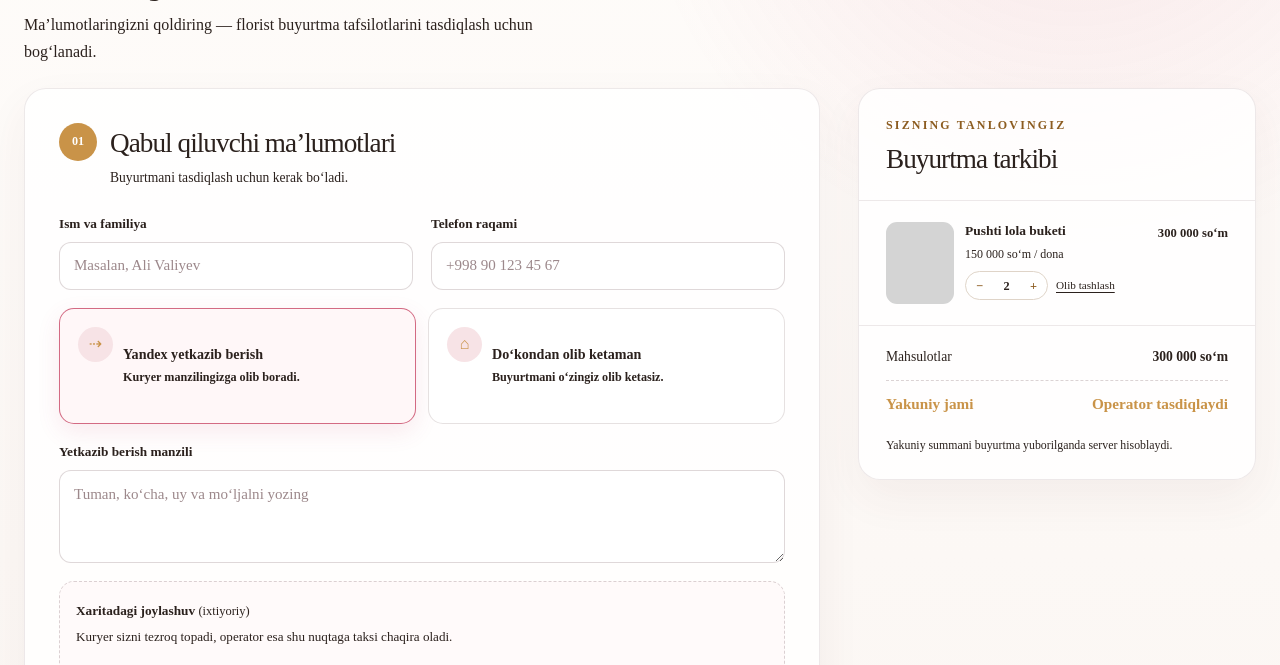
CheckoutClient › shows the collection label alone when the shop has no address on file
The width and height of the screenshot is (1280, 665).
(page scrolled)
expect the heading "Pushti lola buketi" is shown: met, box [965, 223, 1066, 238]
Click the radio button labelled "⌂ Do‘kondan olib ketaman Buyurtmani o‘zingiz olib ketasiz." at {"x": 464, "y": 344}, box [428, 308, 785, 424]
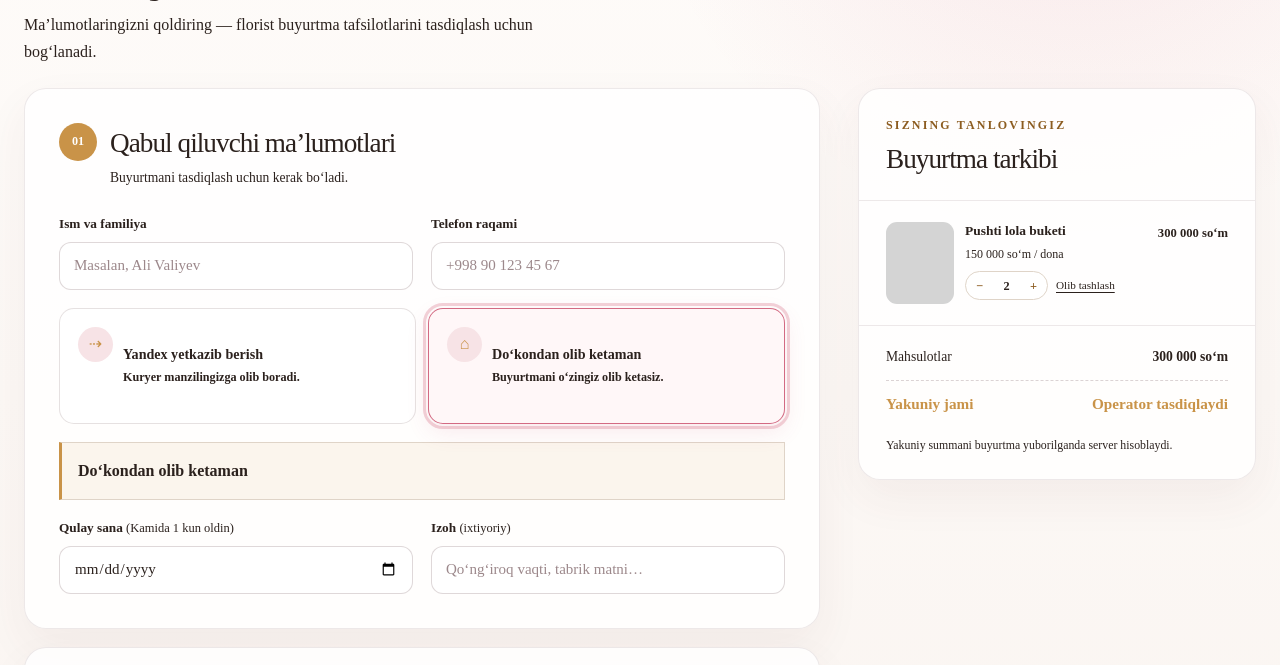
expect the element with class "checkout-pickup" is shown: met, box [59, 442, 785, 500]
expect the element with class "checkout-pickup" reads "Do‘kondan olib ketaman": met, box [78, 462, 248, 479]
